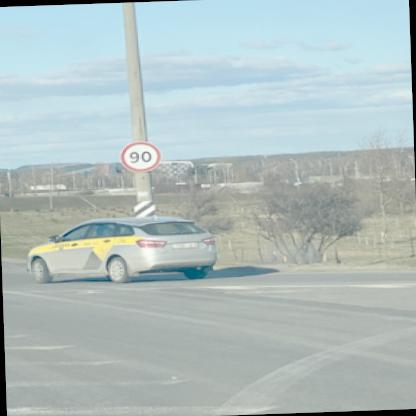speedlimit: (116, 141, 158, 172)
